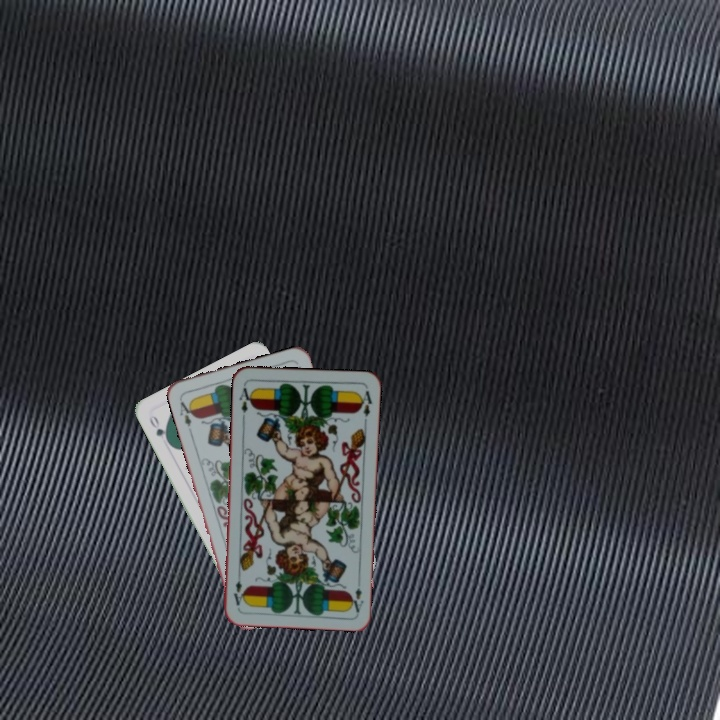EA: (175, 394, 197, 429), (235, 381, 255, 415), (347, 584, 366, 615)
GO: (145, 411, 173, 447)
